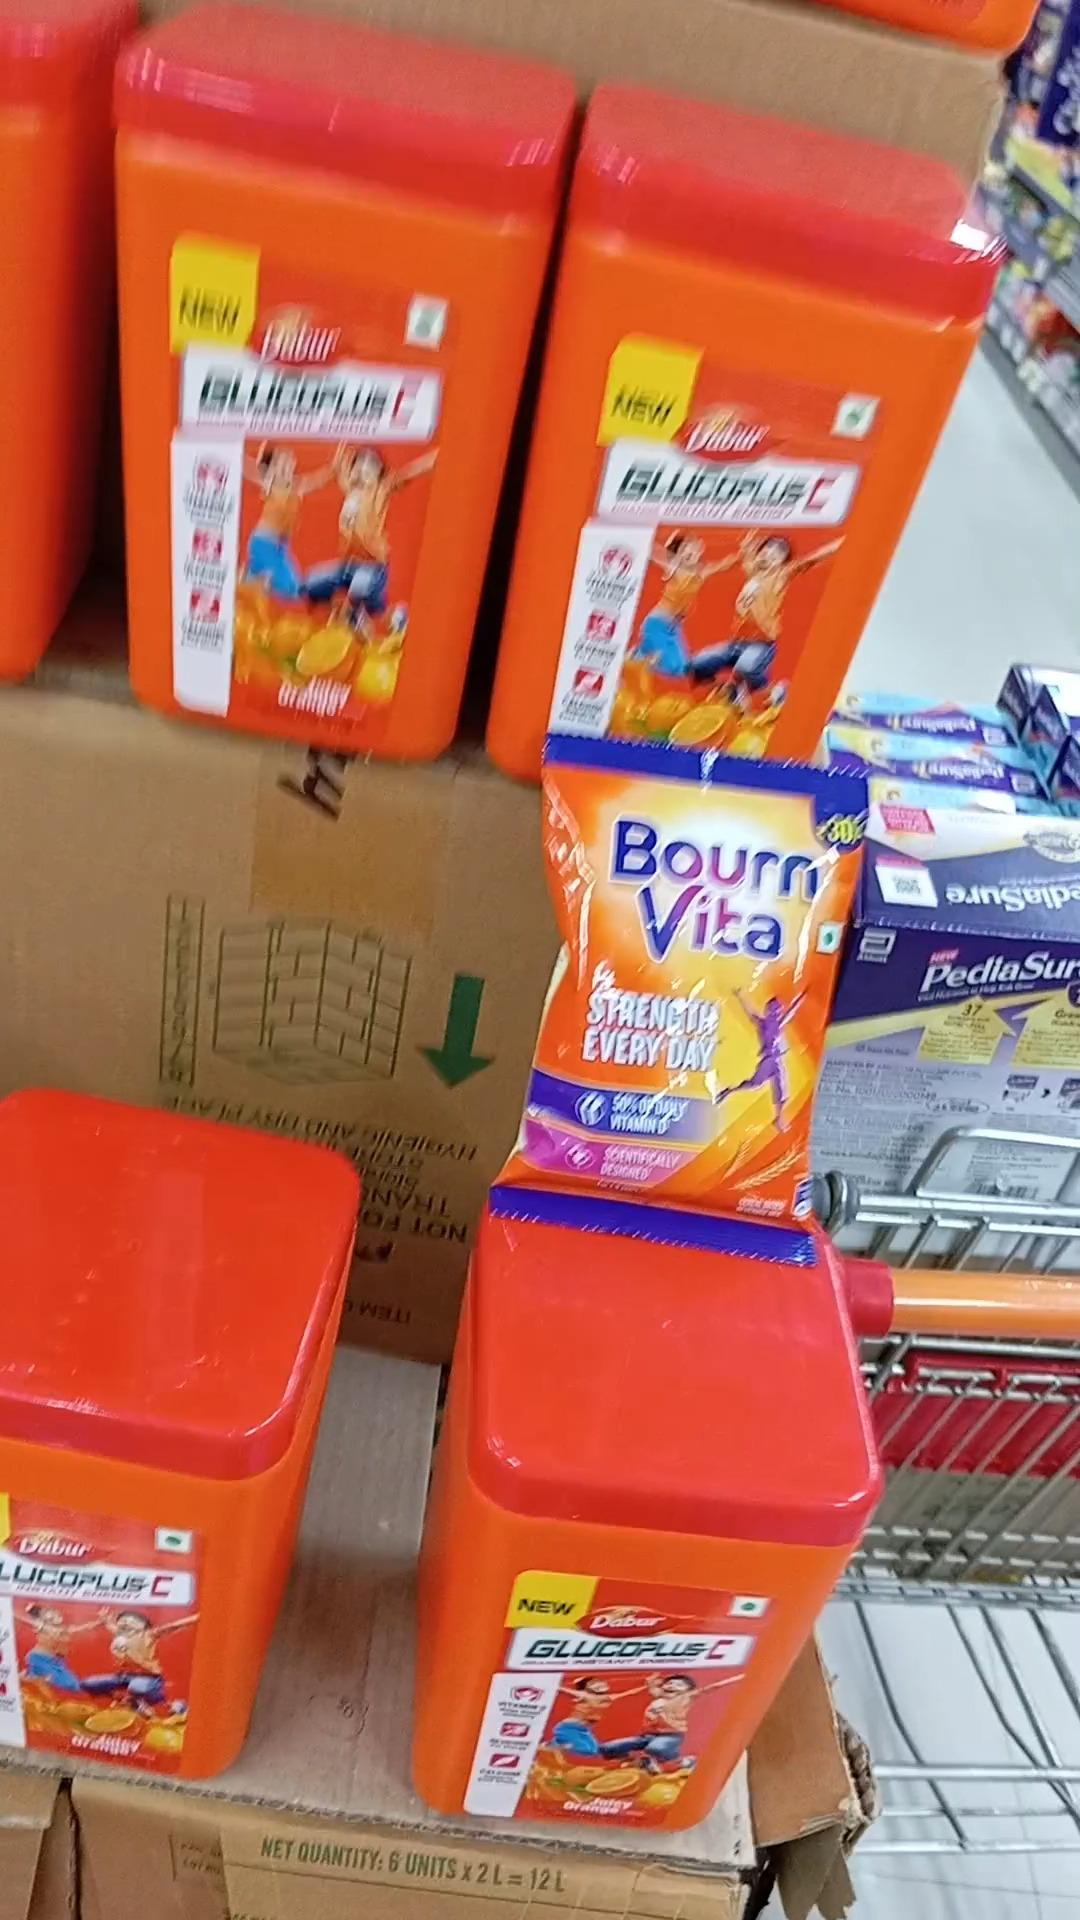BOURN_VITA_75_G_POUCH: (547, 737, 806, 1249)
